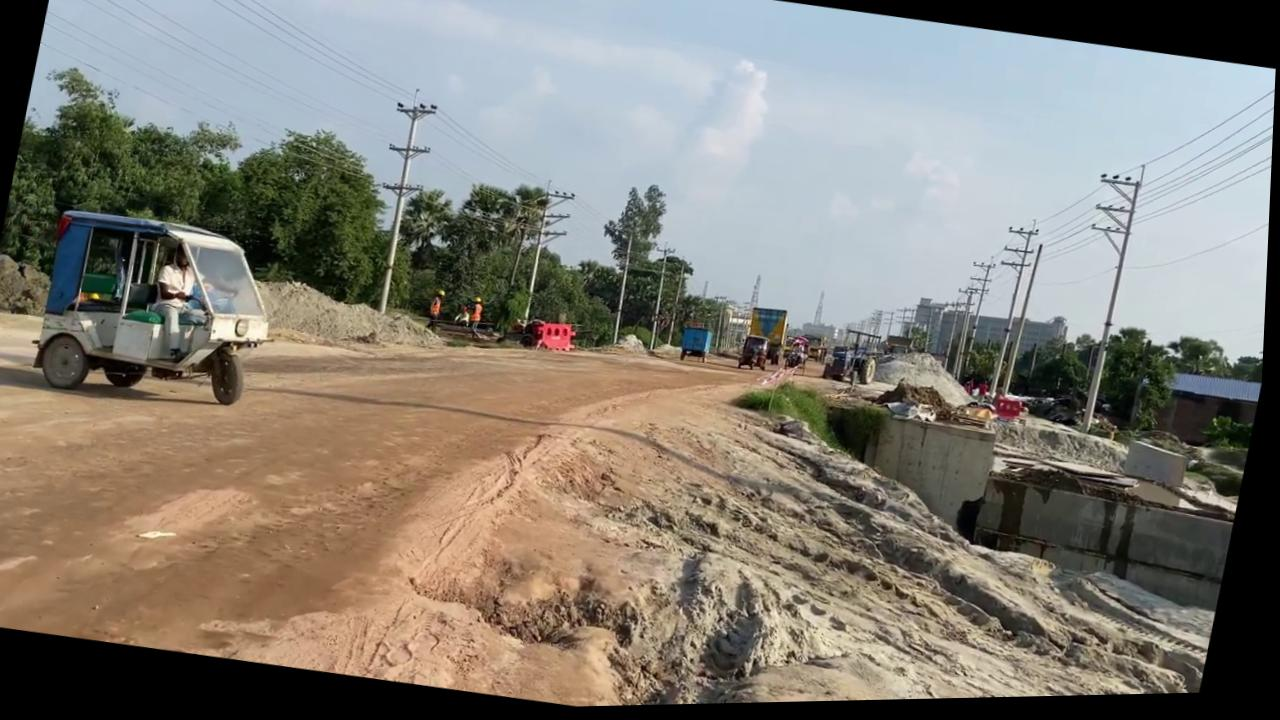Garbage-bin: (679, 327, 717, 366)
Obstacle: (1124, 441, 1195, 495), (523, 318, 581, 356)
Pole: (357, 86, 443, 317), (521, 184, 579, 330), (1003, 246, 1046, 402)
Traffic-sign: (583, 179, 674, 352)
Tree: (26, 200, 296, 421), (427, 289, 513, 348), (823, 327, 888, 391), (787, 333, 833, 370), (740, 336, 775, 375), (808, 336, 833, 368)
